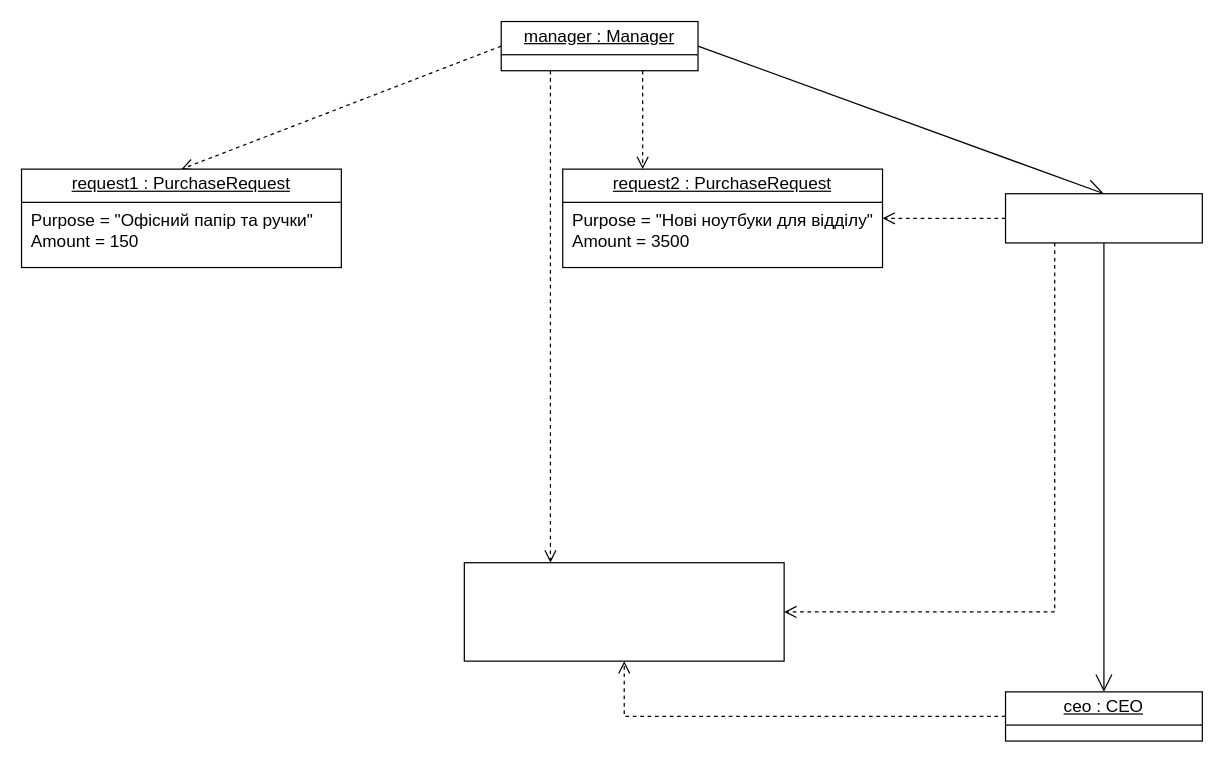
Image size: 1224x763. Some labels were removed from this diagram. The shapes that lost their labels are listed below. From the top down, each one's box as (x1, y1, x2, y2) in pixels, then its label:
(1004, 192, 1202, 243): director : Director
(463, 561, 784, 661): request3 : PurchaseRequest Purpose = "Купівля службового авто" Amount = 25000
